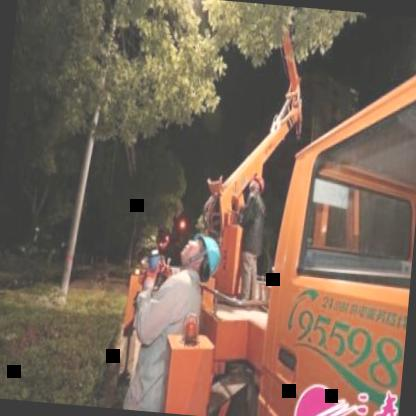helmet: (180, 231, 225, 279), (245, 171, 269, 200)
